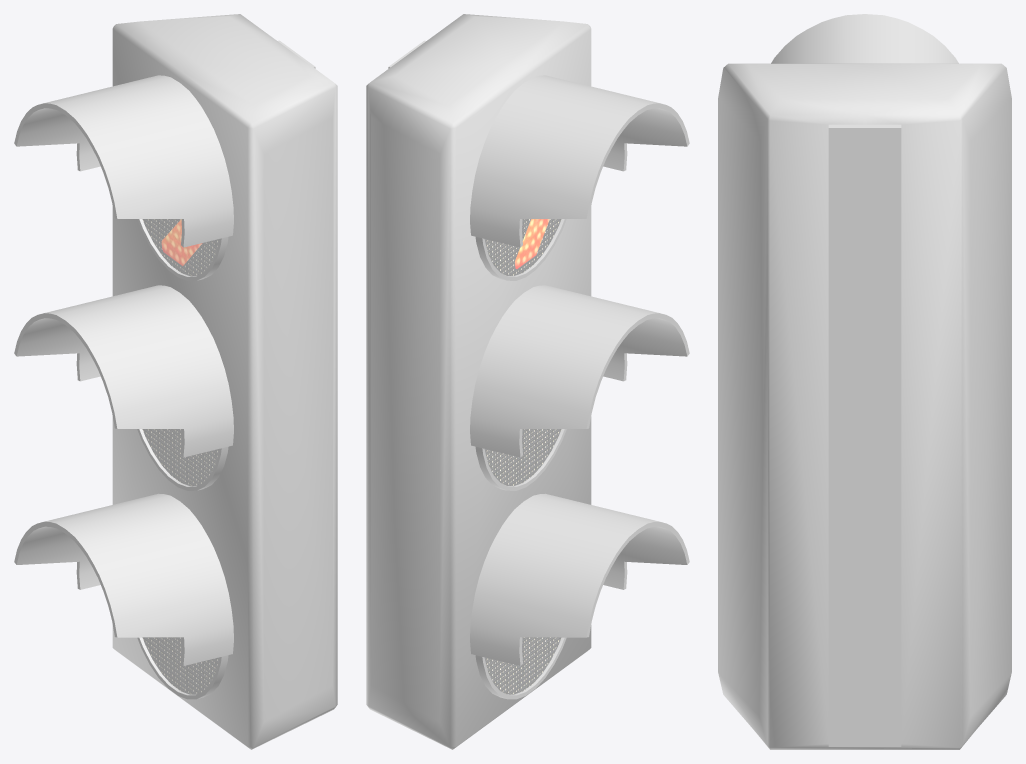
File: 竖排右转灯_RedLight.glb
3 renders of one model, left to right at view 1: azimuth 30°, elevation 25°; view 2: azimuth 150°, elevation 25°; view 3: azimuth 270°, elevation 25°, orthographic.
Visible parts, largest first — view 1: 竖排右转灯_RedLight; view 2: 竖排右转灯_RedLight; view 3: 竖排右转灯_RedLight.
Boxes of the visible parts, x1,y1,x2,y2 form: 竖排右转灯_RedLight: (14, 14, 337, 749); 竖排右转灯_RedLight: (366, 14, 689, 749); 竖排右转灯_RedLight: (718, 14, 1011, 749).
Bounding box in the file's own units: 0.6001 × 1.58 × 0.65.
3 materials, 2 textured.
